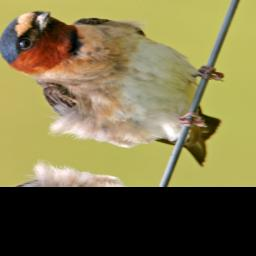Swallow: (0, 0, 254, 168)
